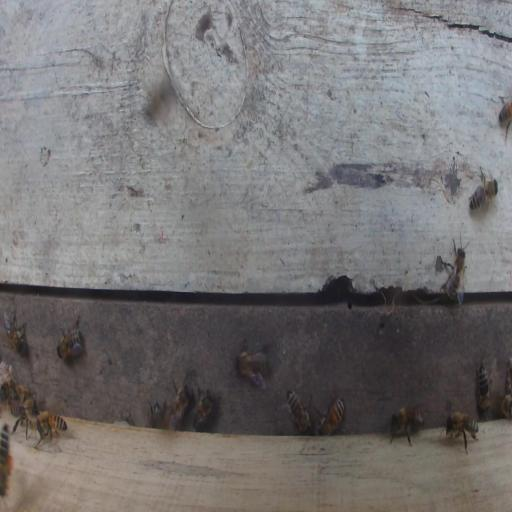nonpollenbee: (439, 238, 469, 306), (236, 339, 270, 389), (389, 404, 425, 447), (445, 409, 479, 452), (468, 165, 499, 212), (9, 398, 39, 444), (57, 316, 85, 361), (168, 377, 192, 428), (286, 388, 311, 434), (36, 410, 69, 444), (317, 396, 345, 436), (5, 309, 27, 355), (192, 389, 214, 430), (475, 359, 490, 413), (498, 96, 512, 143), (8, 384, 40, 401), (150, 400, 166, 428), (499, 392, 512, 418)
pollenbee: (0, 421, 14, 498)
